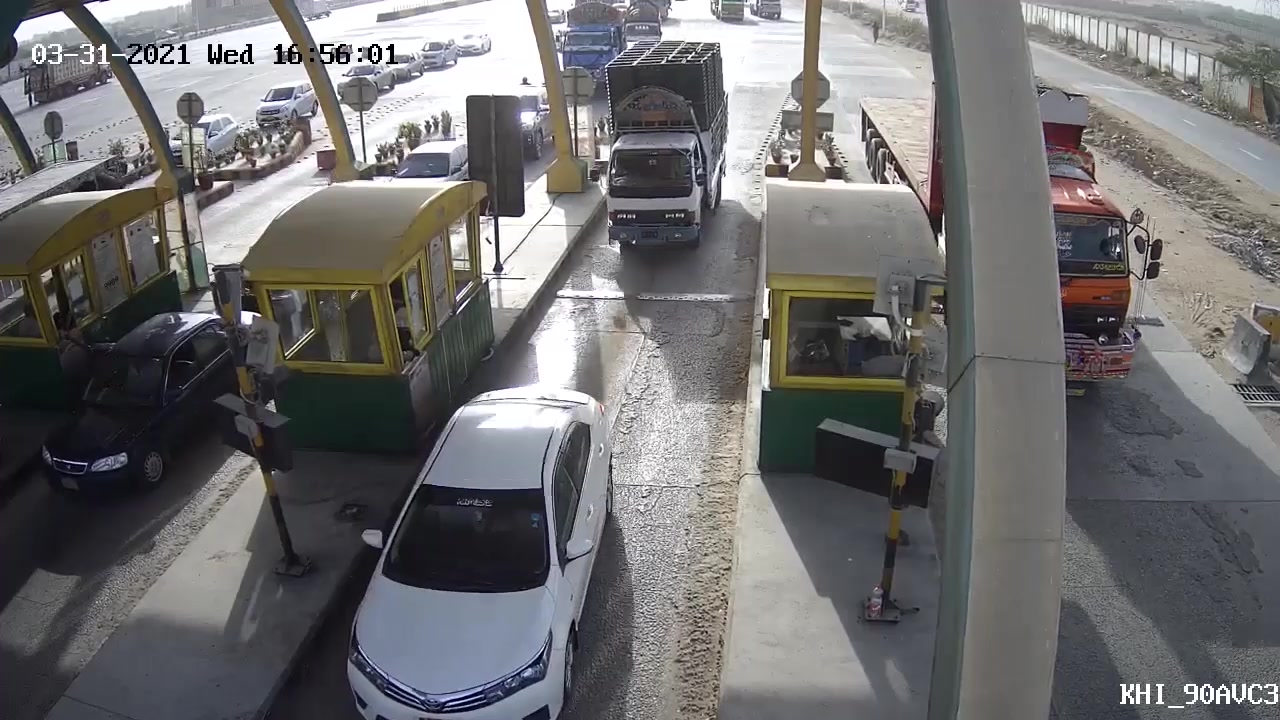F1: (338, 379, 618, 720)
F5: (599, 38, 732, 252)
